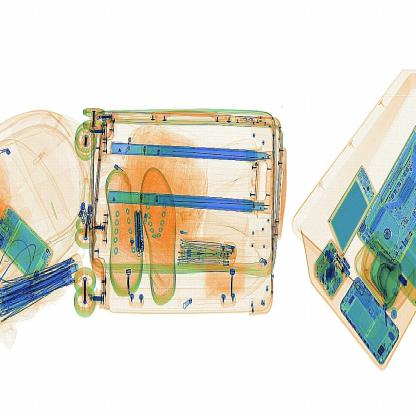scissors: (130, 208, 146, 256)
